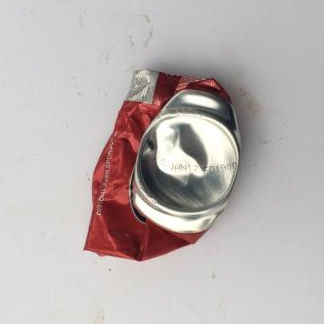Metal: (85, 49, 241, 279)
